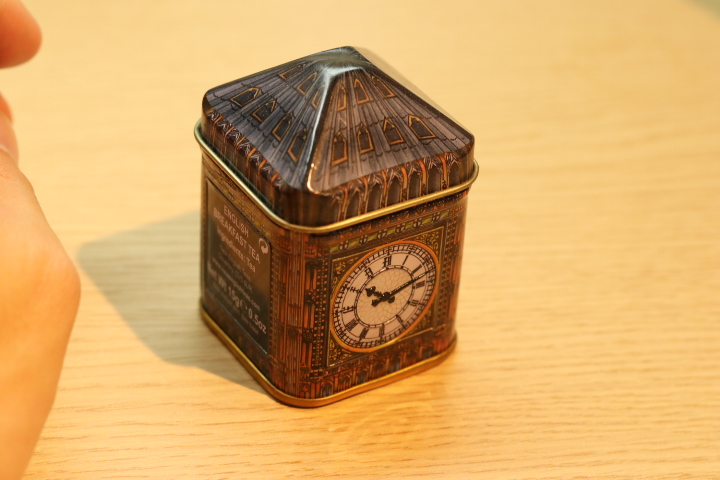Big Ben: (169, 29, 498, 417)
